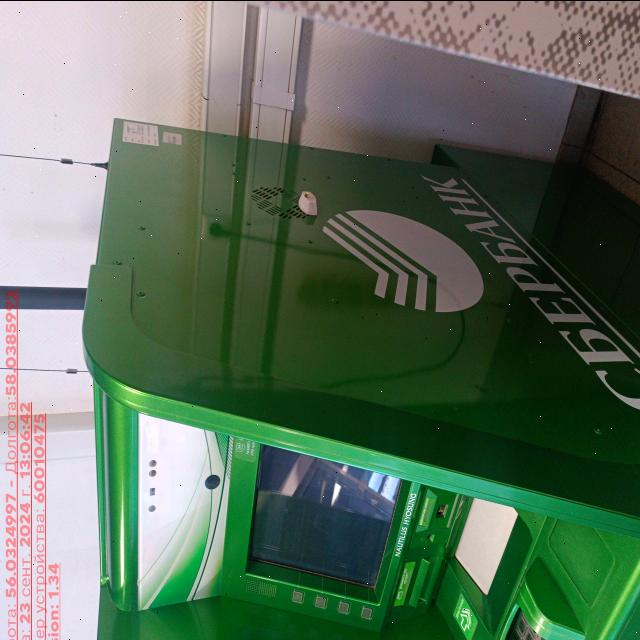bank: (82, 127, 639, 640)
